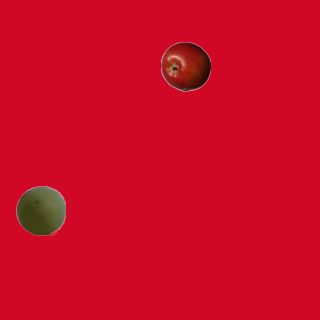Apple Braeburn: (160, 41, 210, 91)
Grape White 4: (15, 185, 65, 235)
